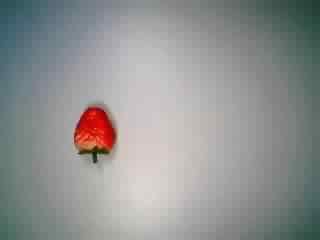strawberry: (62, 99, 121, 168)
